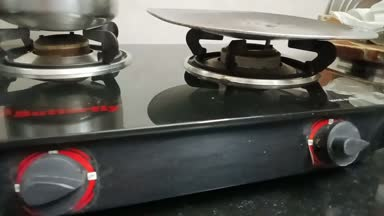flame_gas_off: (205, 35, 371, 170), (2, 25, 108, 211)
